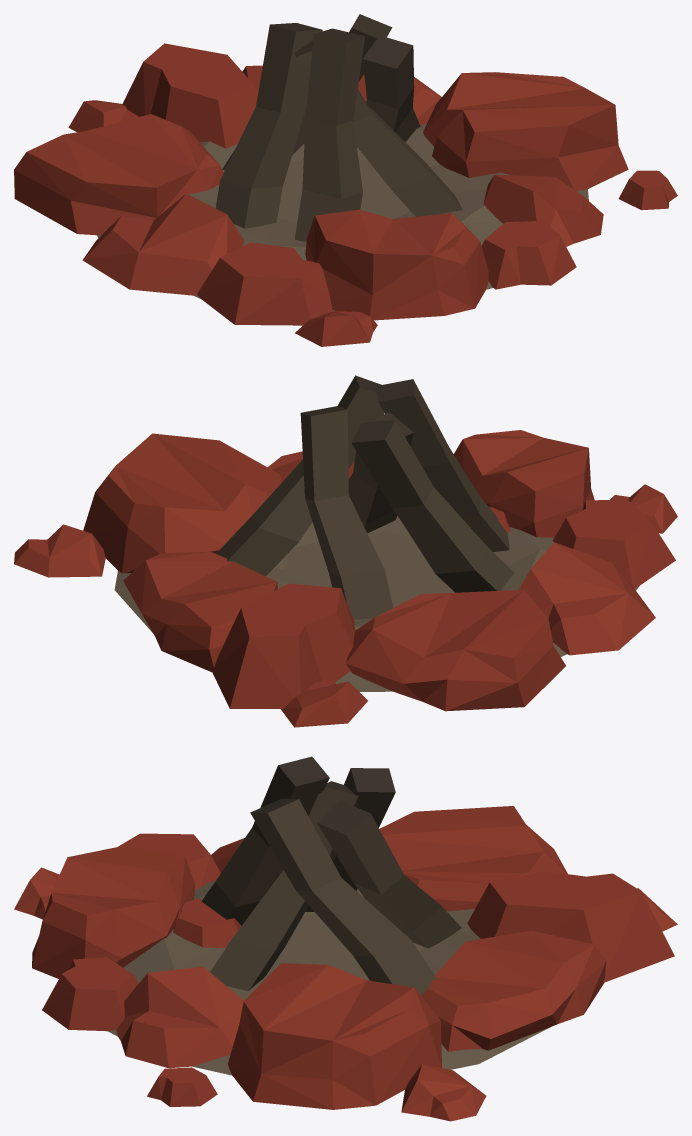
The model's file is synty-prop-campfire-01.gltf.
3 renders of one model, top to bottom at view 1: azimuth 30°, elevation 25°; view 2: azimuth 150°, elevation 25°; view 3: azimuth 270°, elevation 25°, orthographic. The views are drawn at different scales.
Parts seen in each view (by area): view 1: SM_Prop_CampFire_01; view 2: SM_Prop_CampFire_01; view 3: SM_Prop_CampFire_01.
Boxes of the visible parts, <box> form: SM_Prop_CampFire_01: <box>14,14,677,346</box>; SM_Prop_CampFire_01: <box>14,375,677,727</box>; SM_Prop_CampFire_01: <box>14,756,677,1121</box>.
Bounding box in the file's own units: 1.53 × 0.5995 × 1.53.
1 material, 1 textured.
